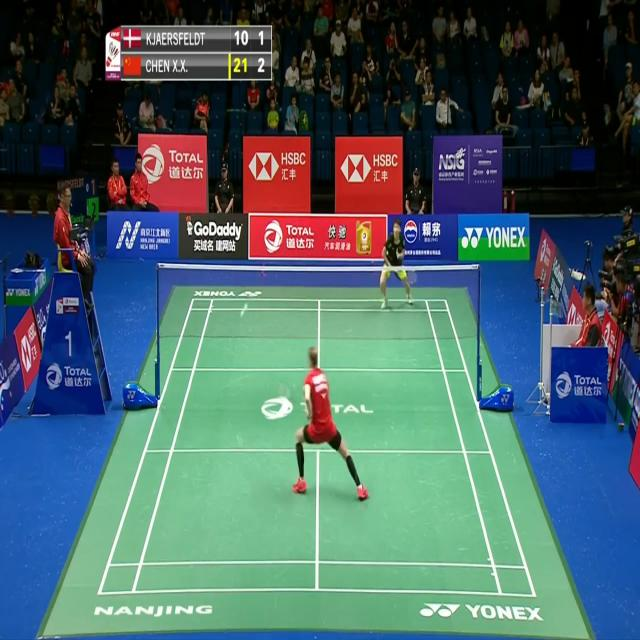Player1: (289, 342, 372, 510)
Player2: (376, 218, 416, 314)
